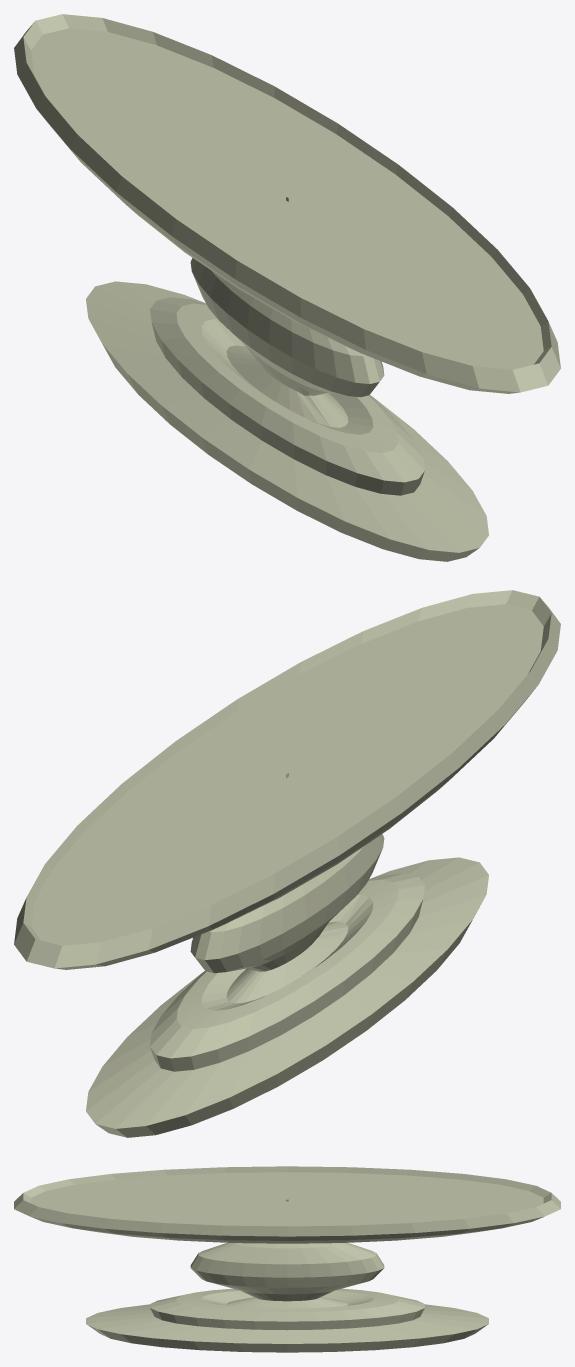
File: bar2.fbx
3 views of the same model, one above another, from view 1: azimuth 30°, elevation 25°; view 2: azimuth 150°, elevation 25°; view 3: azimuth 270°, elevation 25° (orthographic). The views are drawn at different scales.
Visible parts, largest first — view 1: nurbsToPoly1; view 2: nurbsToPoly1; view 3: nurbsToPoly1.
Part boxes in pixels (bbox=[...]): nurbsToPoly1: bbox=[14, 14, 560, 561]; nurbsToPoly1: bbox=[14, 590, 560, 1137]; nurbsToPoly1: bbox=[14, 1166, 560, 1352].
Size of the model in its own units: 12.3 by 12.42 by 45.66.
